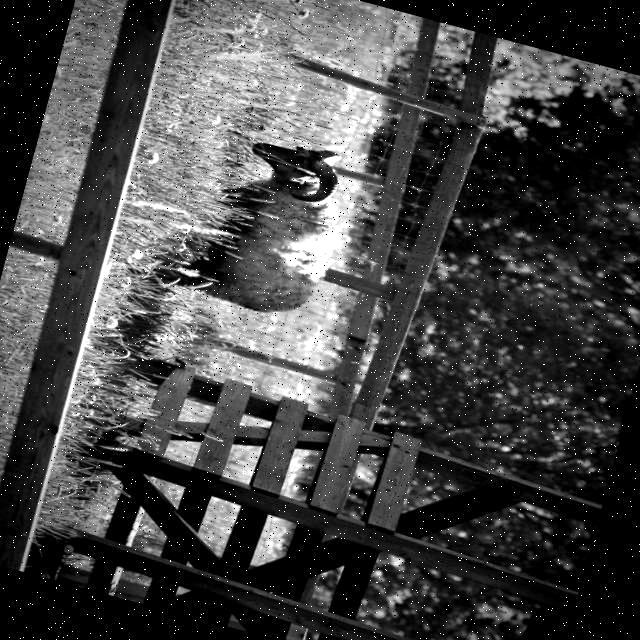sheep: (180, 141, 342, 310)
